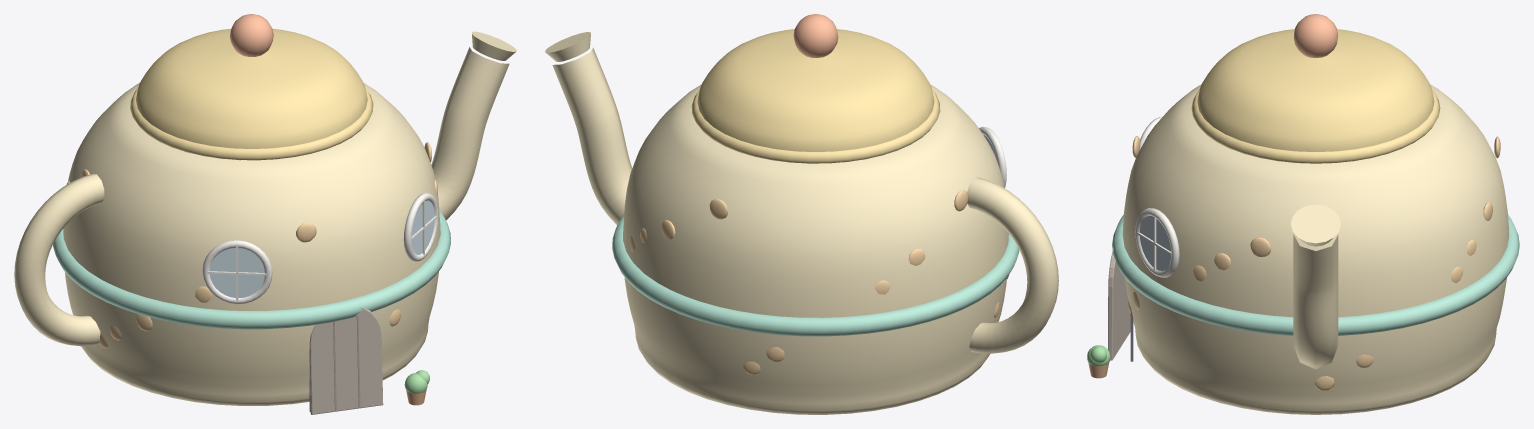
The model's file is building_kitchen_L05.glb.
3 renders of one model, left to right at view 1: azimuth 30°, elevation 25°; view 2: azimuth 150°, elevation 25°; view 3: azimuth 270°, elevation 25°, orthographic. The views are drawn at different scales.
Parts seen in each view (by area): view 1: Body, kitchen_L5; view 2: Body; view 3: Body, kitchen_L5.
Part boxes in pixels (x1=…): Body: x1=14, y1=14, x2=516, y2=414; kitchen_L5: x1=404, y1=370, x2=429, y2=405; Body: x1=545, y1=14, x2=1058, y2=414; Body: x1=1108, y1=14, x2=1519, y2=414; kitchen_L5: x1=1087, y1=345, x2=1110, y2=378.
Size of the model in its own units: 22.16 by 13.84 by 16.34.
